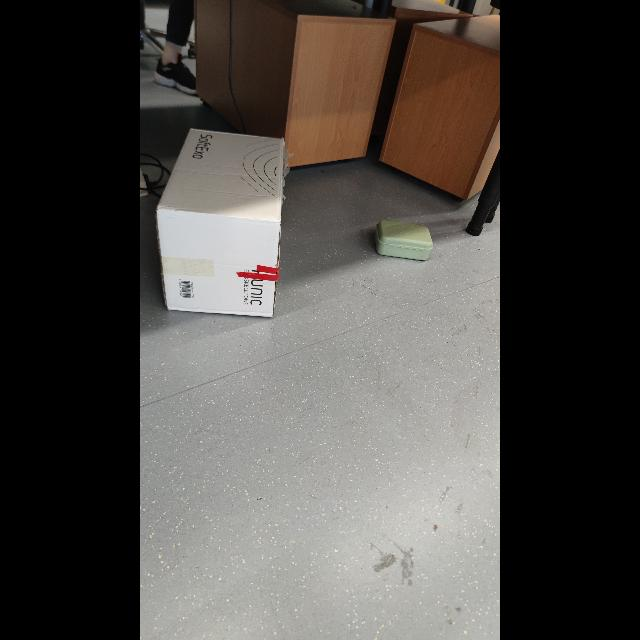cardboard_box: (154, 117, 296, 339), (367, 202, 443, 276)
